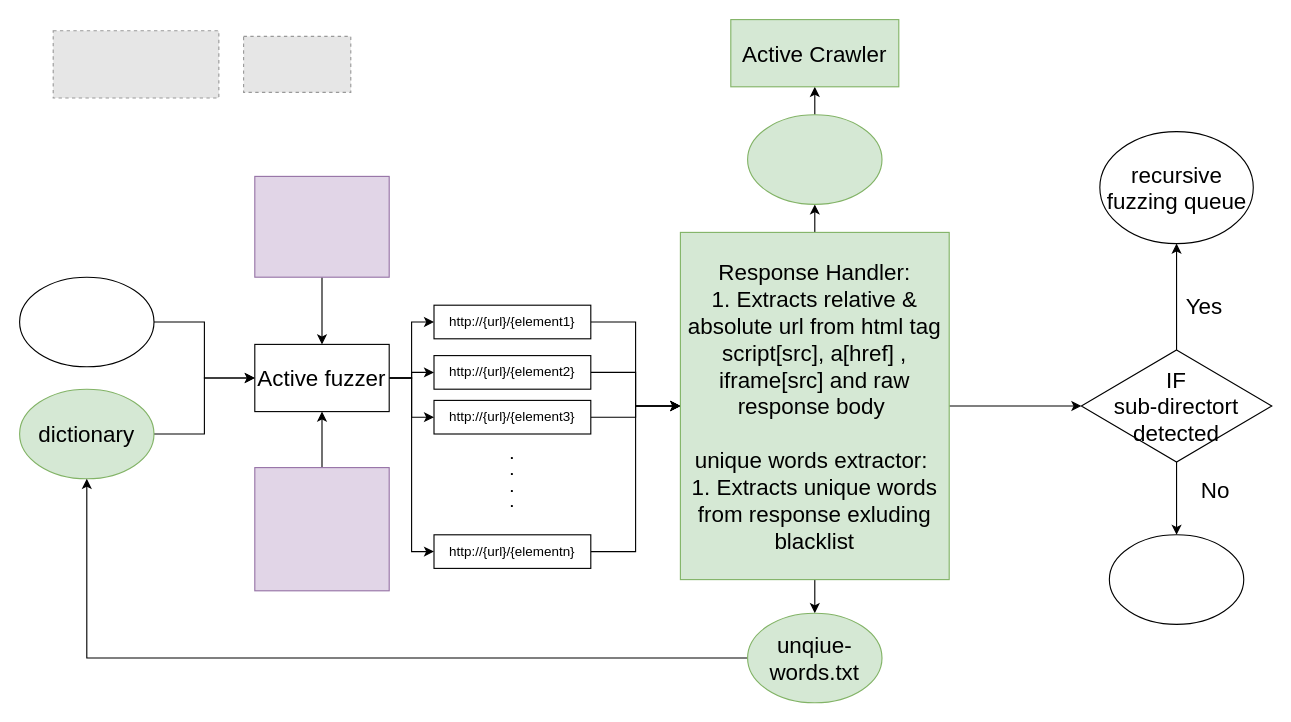
Some shapes in this 1291 by 722 pixel diagram are drawn without their labels. Grey dashed boxes stand in for pictures. The shapes that lost their labels are listed below. From the top down, each one's box as (x1, y1, x2, y2) in pixels, then its label:
(746, 114, 882, 204): crawling queue
(254, 175, 389, 277): Boring Response Learner
(18, 276, 154, 367): urlSeed
(254, 466, 389, 591): unqiue words blacklist learner
(1108, 534, 1244, 624): Result
